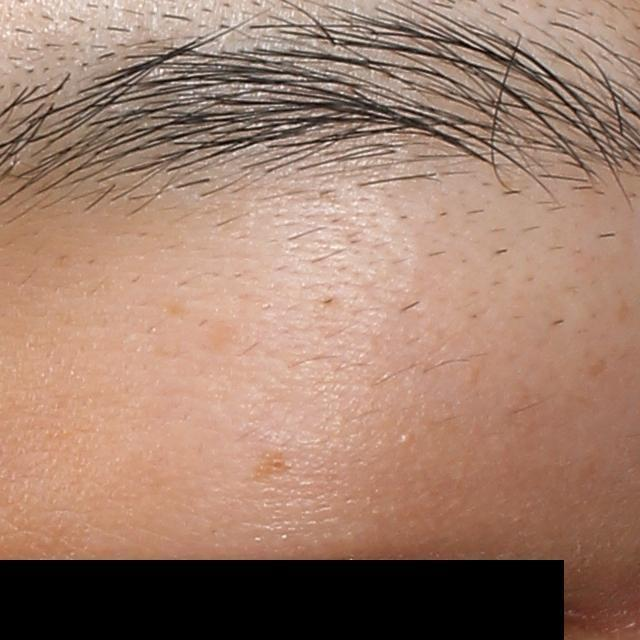melasma: (243, 452, 307, 485), (585, 358, 612, 379)
